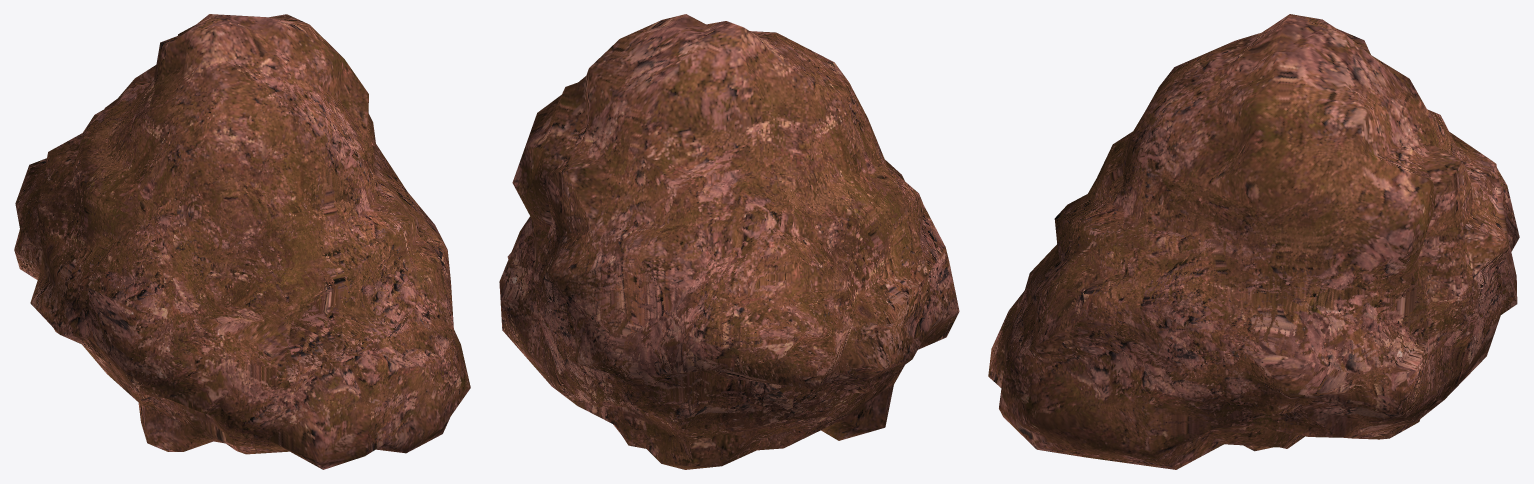
File: rock4.fbx
3 renders of one model, left to right at view 1: azimuth 30°, elevation 25°; view 2: azimuth 150°, elevation 25°; view 3: azimuth 270°, elevation 25°, orthographic. The views are drawn at different scales.
Visible parts, largest first — view 1: Rock.004; view 2: Rock.004; view 3: Rock.004.
Boxes of the visible parts, x1,y1,x2,y2 form: Rock.004: [14, 14, 470, 469]; Rock.004: [499, 14, 959, 469]; Rock.004: [988, 14, 1519, 469].
Bounding box in the file's own units: 270 × 274 × 315.
1 material, 1 textured.
